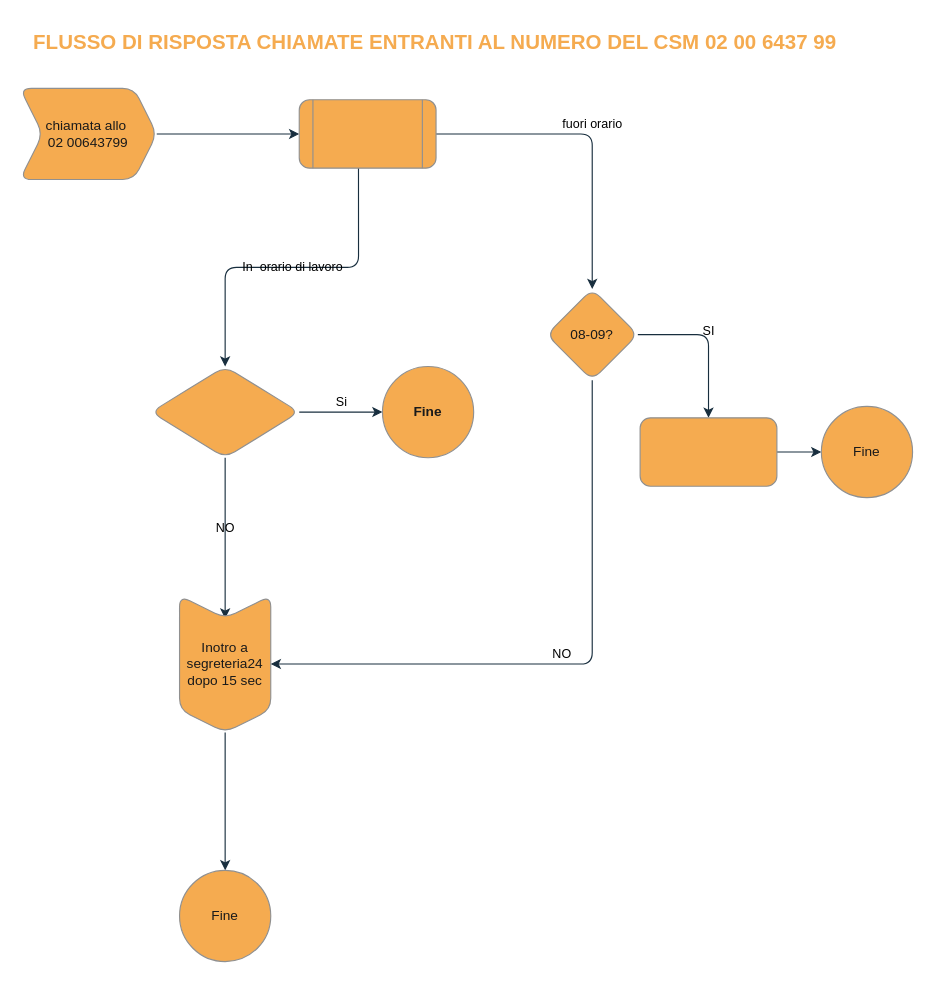
The diagram is 952 pixels wide and 982 high, and some of its shapes have lost their labels. The centre of each missing label's shape, as x and y in pixels:
"CSM Risponde?" belongs at (x=224, y=411).
"Inoltro alla casella vocale" belongs at (x=708, y=451).
"Verifica orario CSM" belongs at (x=367, y=133).
